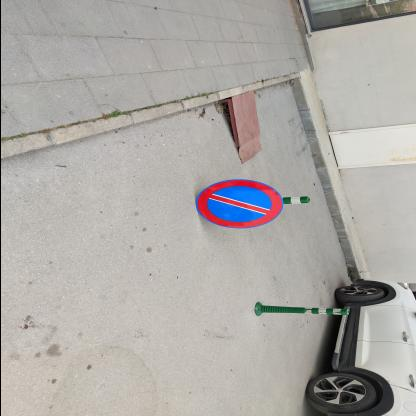No Waiting: (196, 180, 284, 230)
